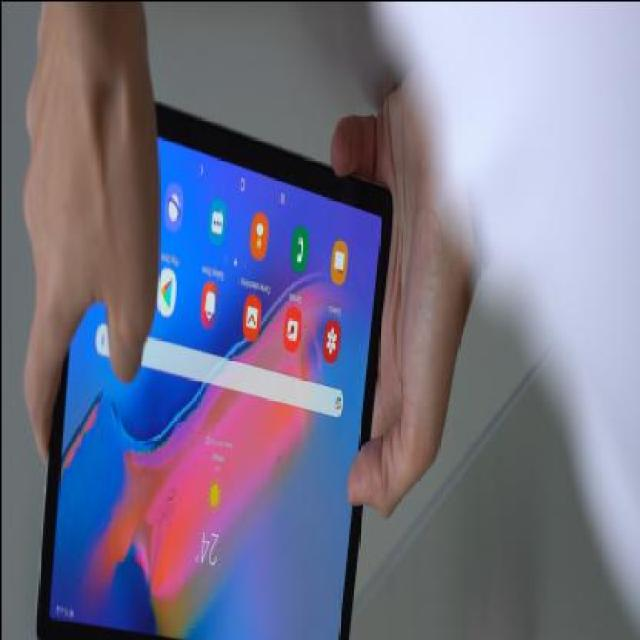tablet: (56, 95, 406, 640)
